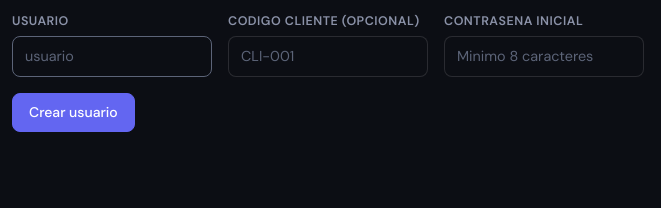
Test case: UserCrudForm › hace submit exitoso
Type "nuevo_usuario" into the field labelled "Usuario" at (112, 57), box top-left (12, 36), bottom-right (212, 78)
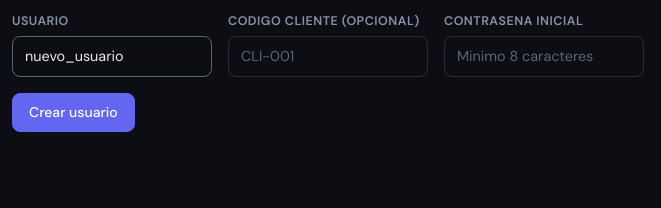
Type "Password123" into the password field labelled "Contrasena inicial" at (544, 57), box top-left (444, 36), bottom-right (644, 78)
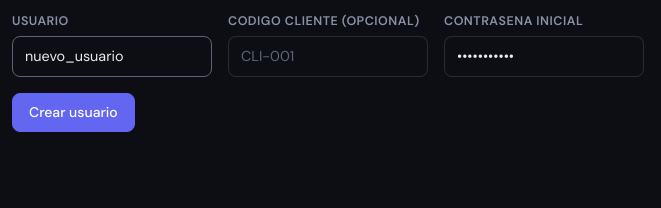
Submit the form "Crear usuario", box top-left (12, 13), bottom-right (644, 132)
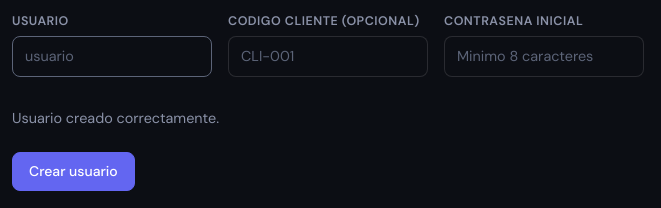
Now the text "Usuario creado correctamente." is shown, box top-left (12, 108), bottom-right (219, 130)
